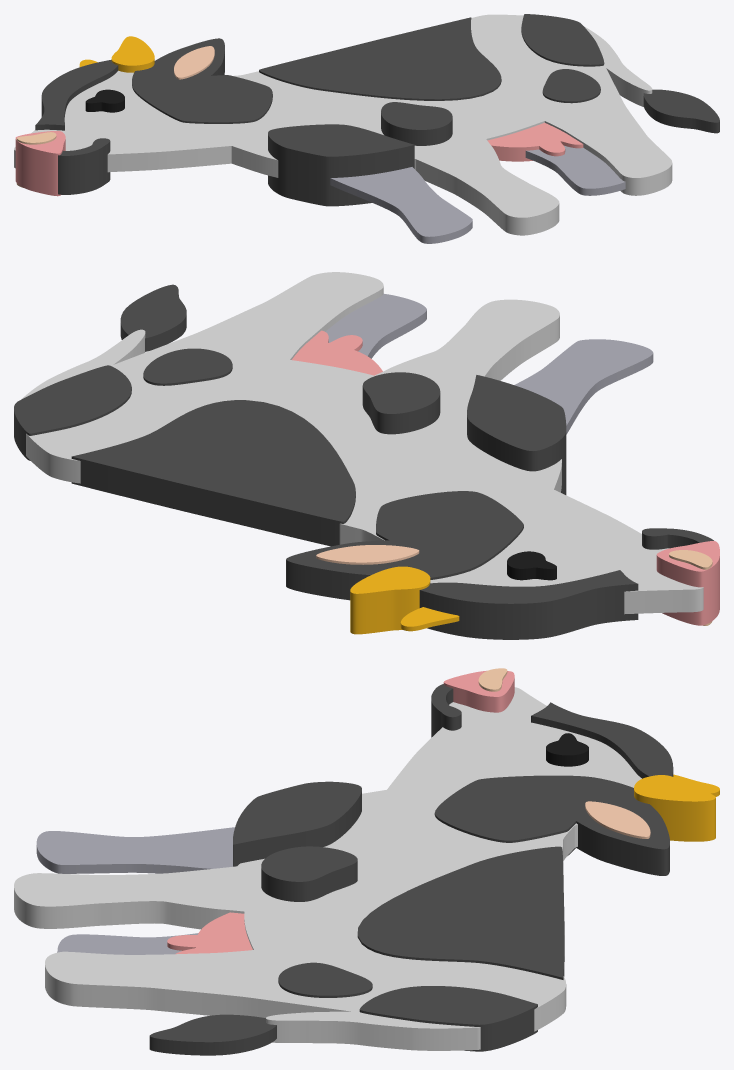
File: emoji_u1f404.glb
3 renders of one model, top to bottom at view 1: azimuth 30°, elevation 25°; view 2: azimuth 150°, elevation 25°; view 3: azimuth 270°, elevation 25°, orthographic. The views are drawn at different scales.
Visible parts, largest first — view 1: emoji_u1f404; view 2: emoji_u1f404; view 3: emoji_u1f404.
Part boxes in pixels (bbox=[...]): emoji_u1f404: bbox=[14, 14, 719, 243]; emoji_u1f404: bbox=[14, 272, 719, 639]; emoji_u1f404: bbox=[14, 668, 719, 1055].
Bounding box in the file's own units: 0.0337 × 0.0028 × 0.0286.
